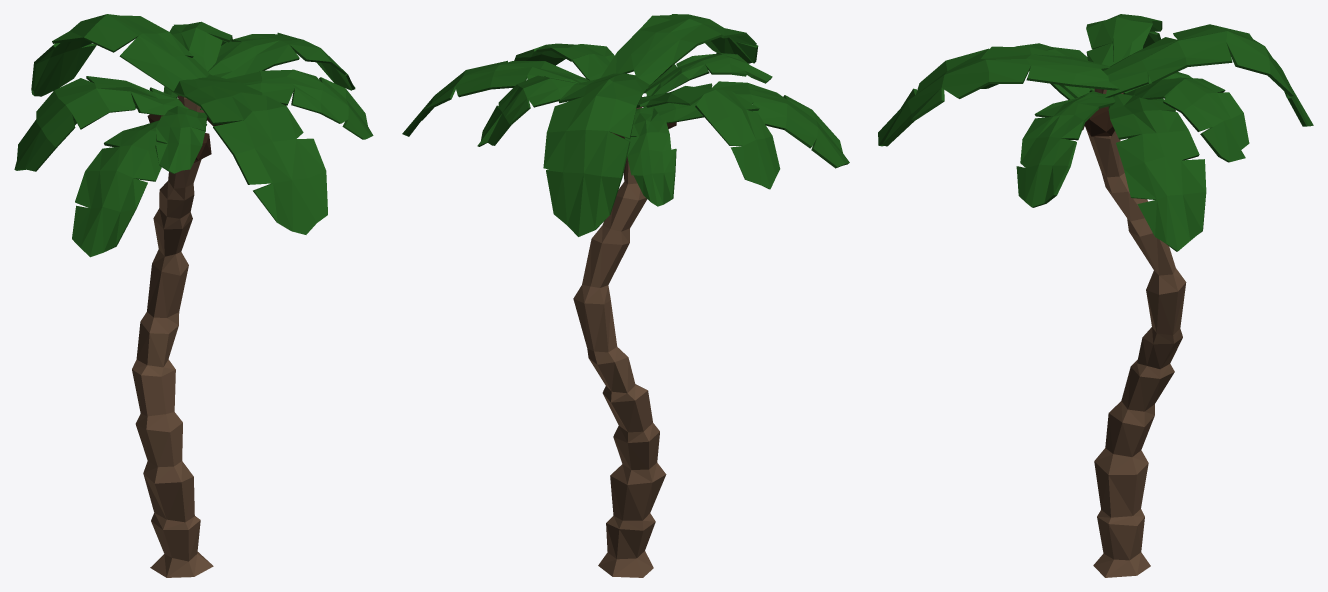
File: palm_tree_1.glb
3 views of the same model, side by side, from view 1: azimuth 30°, elevation 25°; view 2: azimuth 150°, elevation 25°; view 3: azimuth 270°, elevation 25° (orthographic). The views are drawn at different scales.
Parts seen in each view (by area): view 1: palm_tree_1_leaves, palm_tree_1_trunk; view 2: palm_tree_1_leaves, palm_tree_1_trunk; view 3: palm_tree_1_leaves, palm_tree_1_trunk, palm_tree_1_coconuts.
Boxes of the visible parts, x1,y1,x2,y2 form: palm_tree_1_leaves: [14, 14, 373, 257]; palm_tree_1_trunk: [132, 95, 213, 577]; palm_tree_1_leaves: [402, 14, 849, 236]; palm_tree_1_trunk: [573, 96, 666, 577]; palm_tree_1_leaves: [878, 14, 1313, 251]; palm_tree_1_trunk: [1085, 88, 1186, 577]; palm_tree_1_coconuts: [1082, 106, 1128, 138].
Bounding box in the file's own units: 4.95 × 6.83 × 5.13.
